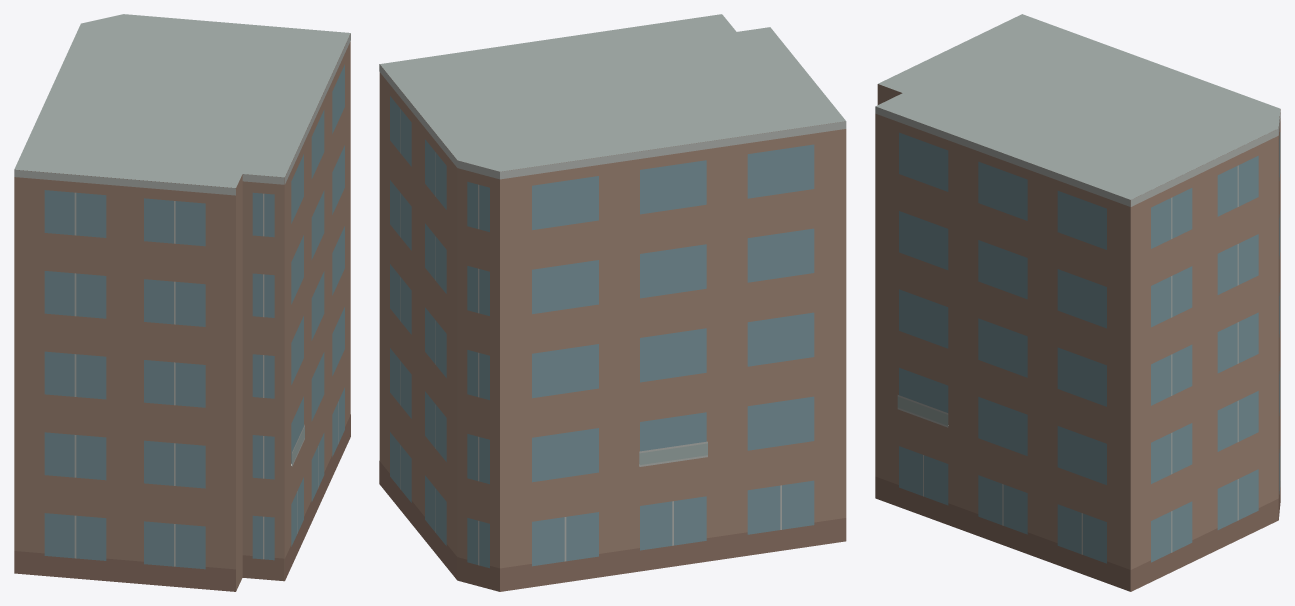
File: survey-upis-33004500.glb
The picture shows the model from 3 angles, left to right: view 1: azimuth 30°, elevation 25°; view 2: azimuth 150°, elevation 25°; view 3: azimuth 270°, elevation 25°; orthographic projection. The views are drawn at different scales.
Visible parts, largest first — view 1: survey-upis-33004500.tmp; view 2: survey-upis-33004500.tmp; view 3: survey-upis-33004500.tmp.
Part boxes in pixels (x1,y1,x2,y2): survey-upis-33004500.tmp: [14, 14, 350, 591]; survey-upis-33004500.tmp: [379, 14, 846, 591]; survey-upis-33004500.tmp: [875, 14, 1280, 591].
Size of the model in its own units: 13.54 by 13.3 by 12.47.
